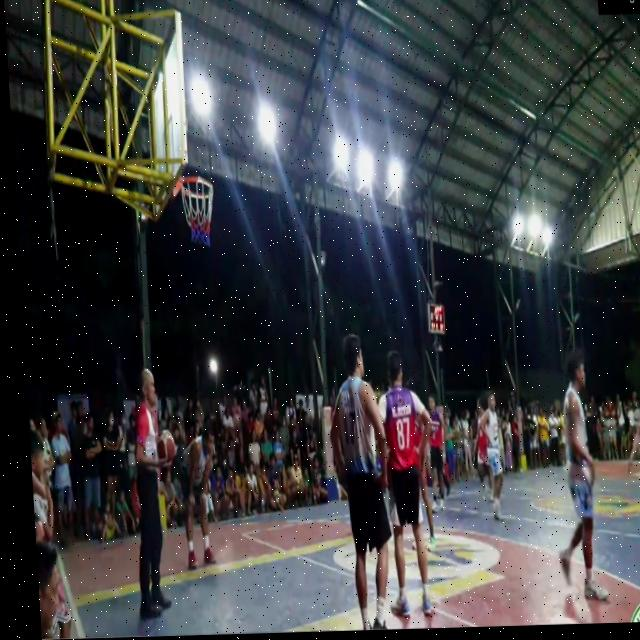basketball: (153, 425, 181, 471)
hoop: (172, 165, 223, 255)
